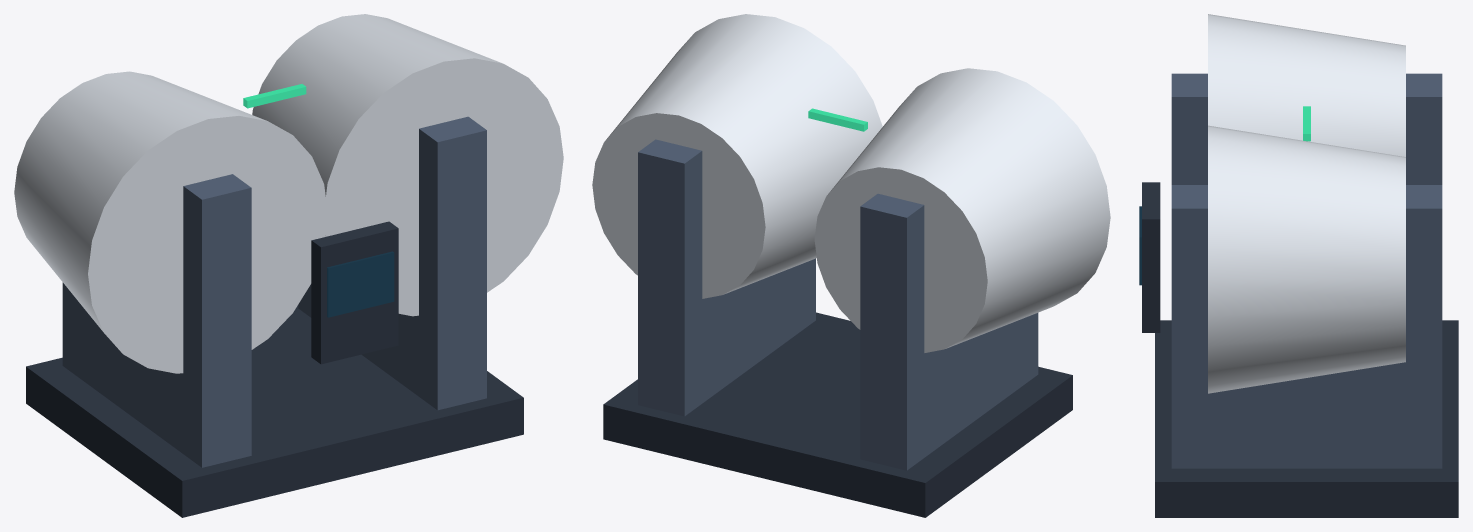
Rendered from winder.glb.
3 renders of one model, left to right at view 1: azimuth 30°, elevation 25°; view 2: azimuth 150°, elevation 25°; view 3: azimuth 270°, elevation 25°, orthographic. The views are drawn at different scales.
Size of the model in its own units: 137 by 101 by 82.28.
